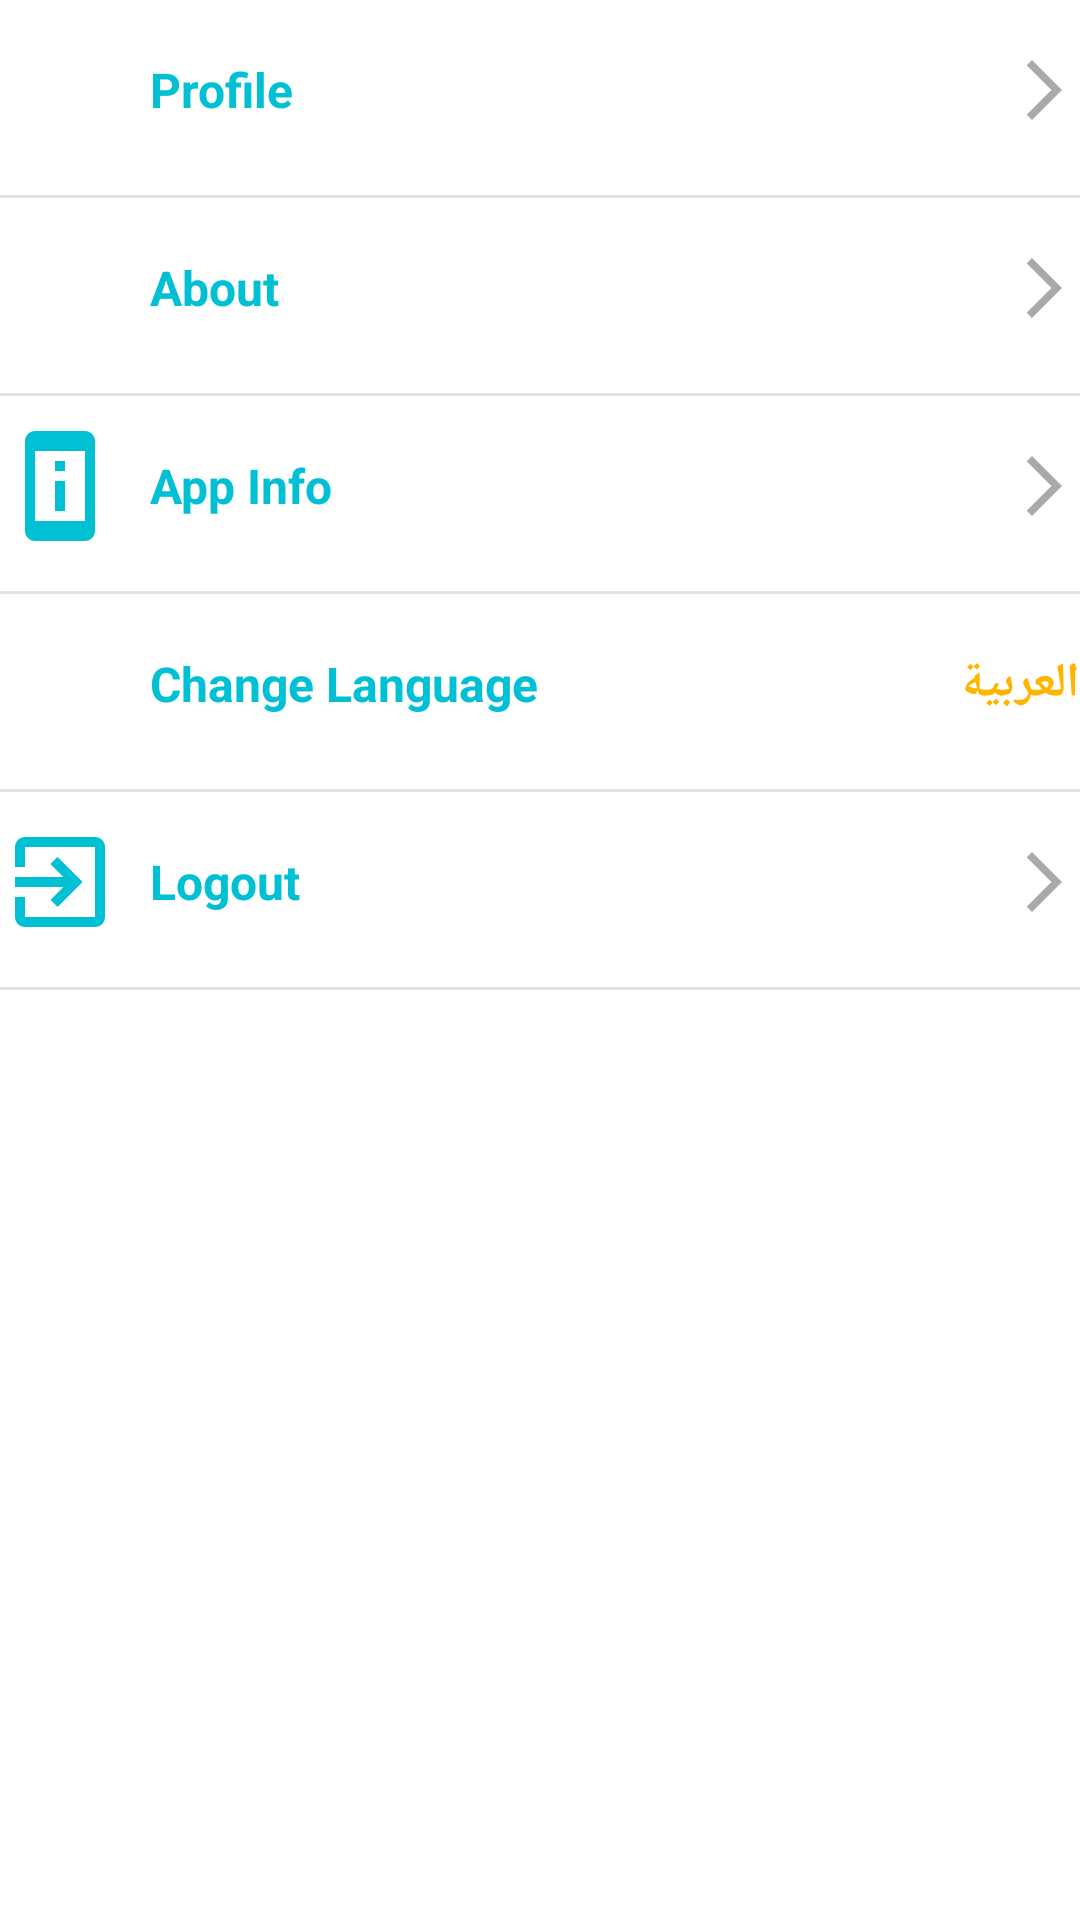

Icons on this 1080px x 1920px Android screen, each with its box as (x1, y1, x2, y2):
arrow forward: (1027, 60, 1062, 120), (1027, 258, 1062, 318), (1027, 456, 1062, 516), (1027, 852, 1062, 912)
